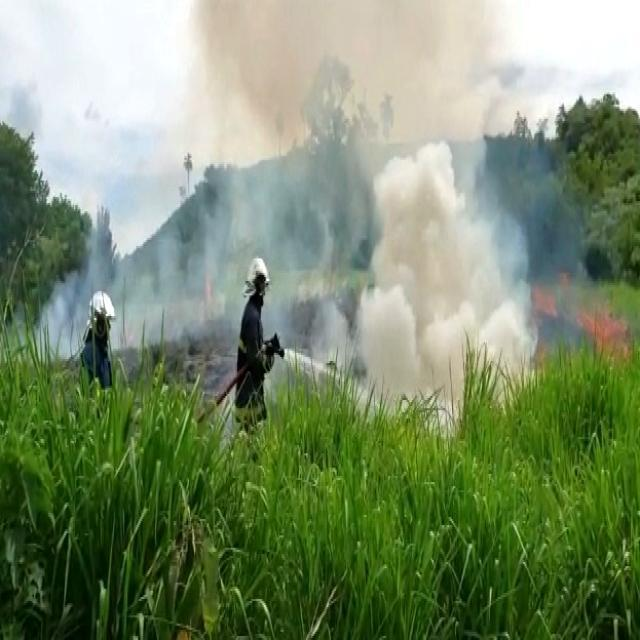Smoke: (38, 0, 548, 370)
